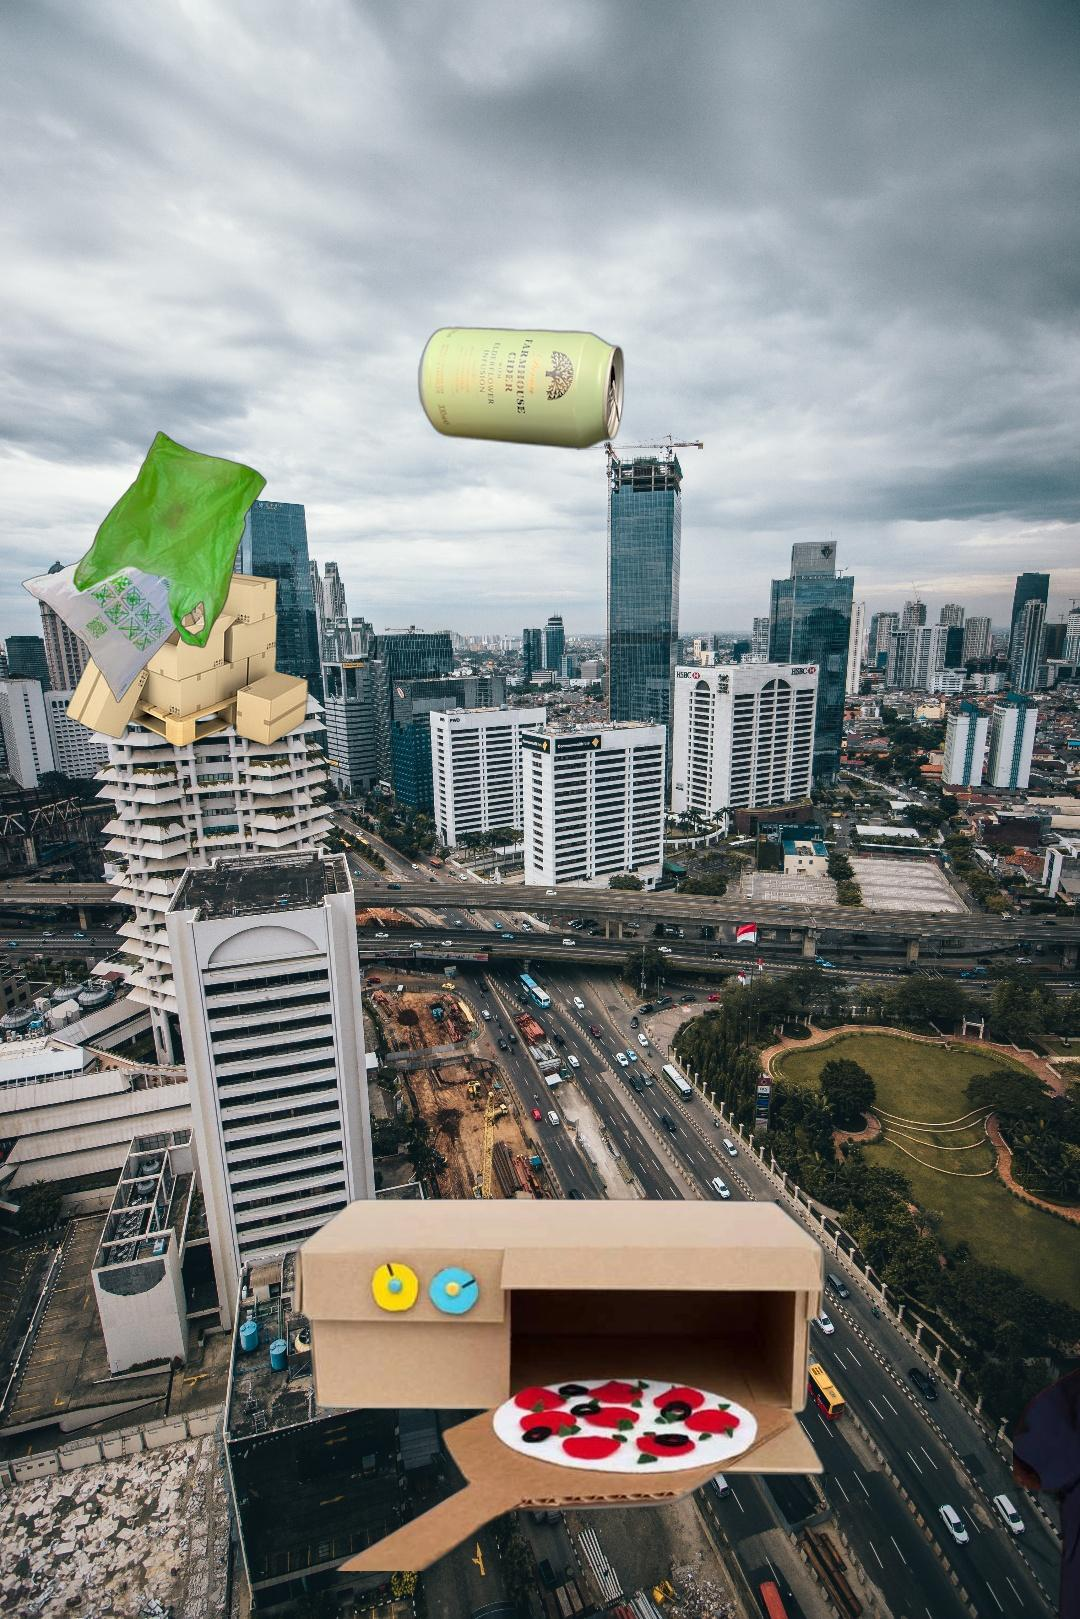clothes: (1012, 1334, 1080, 1619)
metal-cans: (415, 322, 787, 454)
plastic-bag: (20, 430, 270, 705)
trashbox-cardboard: (287, 1193, 830, 1571), (60, 530, 315, 750)
